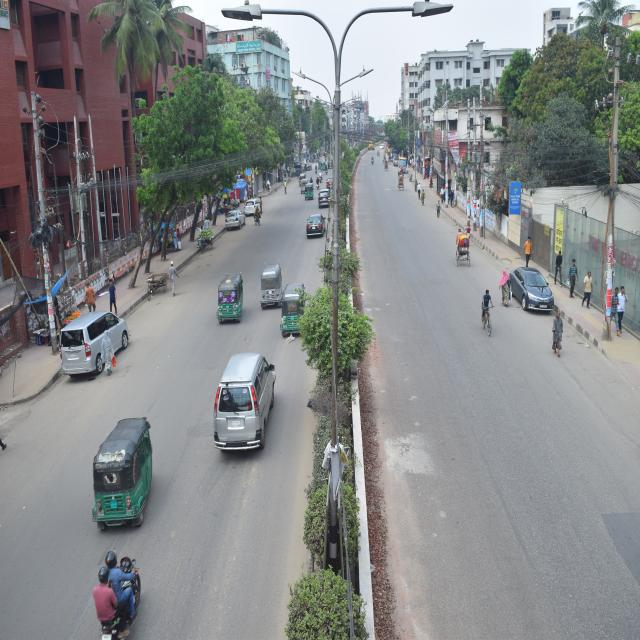car: (511, 251, 561, 323), (223, 202, 250, 235), (304, 212, 328, 246), (246, 177, 264, 222), (318, 192, 335, 208)
microbus: (215, 348, 278, 455), (62, 298, 128, 387)
